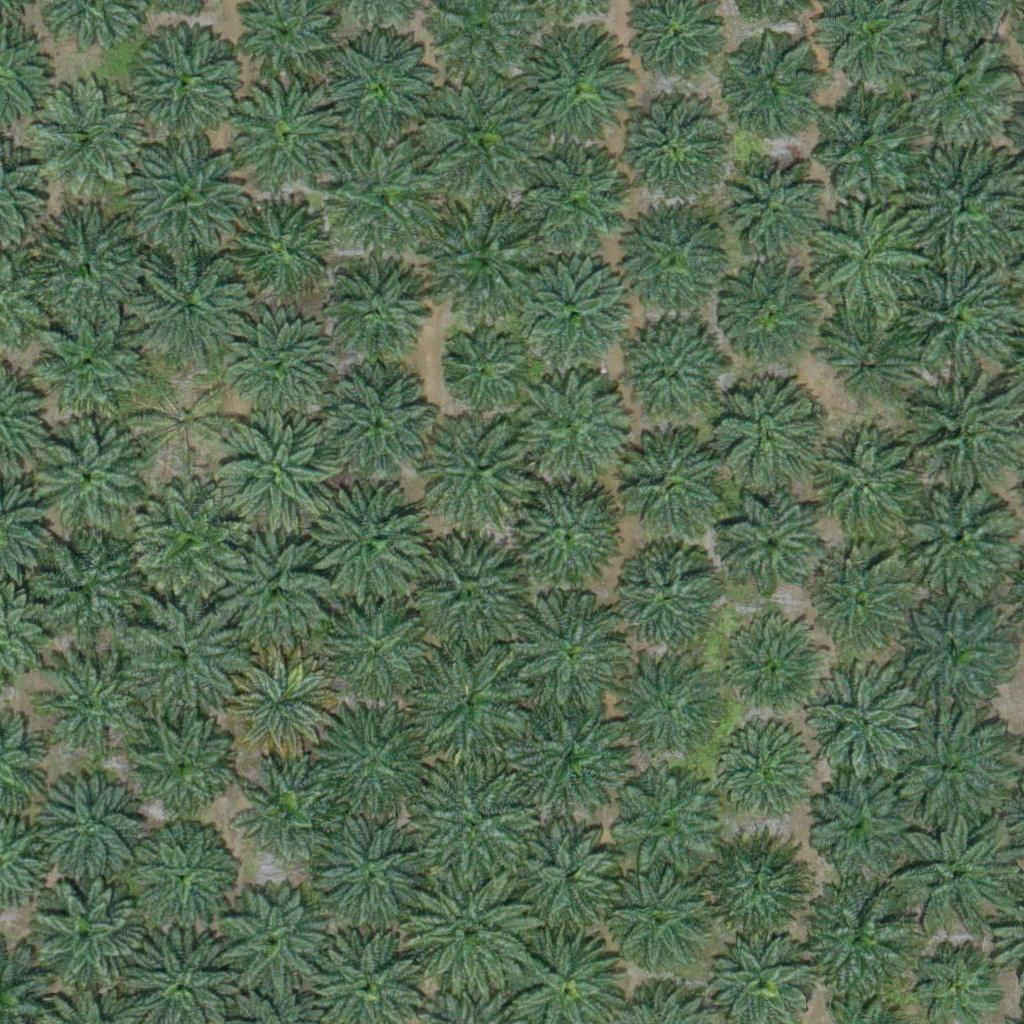Kelapa_Sawit: (508, 145, 633, 271), (422, 202, 547, 328), (884, 708, 1009, 834), (894, 804, 1019, 930), (406, 643, 531, 769), (412, 762, 537, 888), (894, 369, 1019, 494), (406, 865, 531, 990), (515, 28, 628, 142), (517, 480, 630, 594), (423, 414, 536, 528), (509, 595, 622, 709), (227, 77, 340, 191), (322, 367, 435, 481), (129, 23, 242, 136), (902, 34, 1015, 147), (811, 434, 924, 547), (714, 263, 827, 376), (709, 385, 822, 498), (616, 93, 729, 206), (617, 206, 730, 319), (897, 589, 1010, 702), (806, 665, 919, 778), (600, 861, 713, 974), (514, 820, 627, 933), (516, 701, 629, 814), (409, 539, 522, 652), (310, 484, 423, 597), (27, 532, 140, 645), (35, 424, 148, 537), (31, 307, 144, 420), (25, 209, 138, 322), (131, 485, 244, 598), (325, 137, 438, 250), (225, 650, 338, 763), (222, 883, 335, 996), (127, 603, 240, 716), (123, 708, 236, 821), (795, 875, 907, 989), (700, 826, 812, 940), (606, 762, 718, 876), (31, 78, 143, 192), (131, 138, 243, 252), (226, 315, 338, 429), (327, 28, 439, 141), (904, 259, 1016, 372), (907, 485, 1019, 598), (814, 93, 926, 206), (615, 324, 727, 437), (612, 432, 724, 545), (516, 260, 628, 373), (515, 371, 627, 484), (424, 82, 536, 195), (322, 594, 434, 707), (312, 703, 424, 816), (312, 814, 424, 927), (133, 250, 245, 363), (218, 534, 330, 647), (219, 412, 331, 525), (35, 648, 147, 761), (31, 880, 143, 993), (134, 372, 234, 473), (817, 210, 917, 311), (823, 304, 923, 405), (811, 551, 911, 652), (717, 40, 817, 141), (728, 157, 828, 258), (719, 491, 819, 592), (133, 828, 233, 929), (40, 773, 140, 874), (614, 545, 714, 645), (814, 773, 914, 873), (719, 617, 819, 717), (715, 724, 815, 824), (620, 656, 720, 756), (229, 199, 329, 299), (328, 257, 428, 357), (243, 765, 330, 854), (916, 942, 991, 1018), (442, 333, 517, 409)
